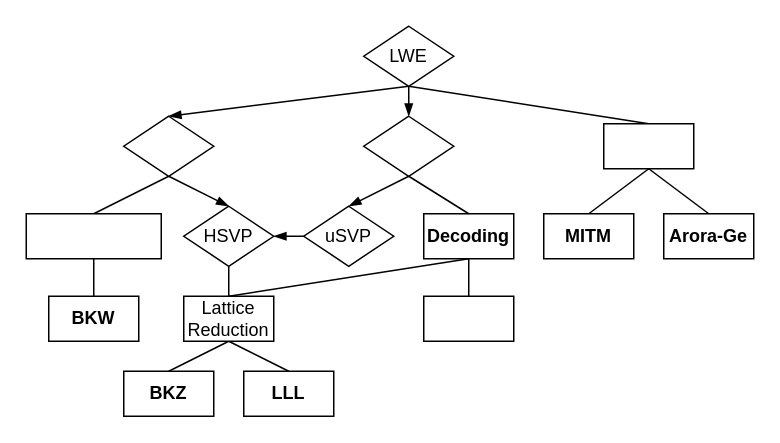
Some shapes in this 780 by 443 pixel diagram are drawn without their labels. Here are the shapes that lost their labels. From the top down, the centre of each, then its label:
(168,145): SIS
(408,145): BDD
(648,145): Direct
(93,235): Combinatorial
(468,318): Nearest Plane
